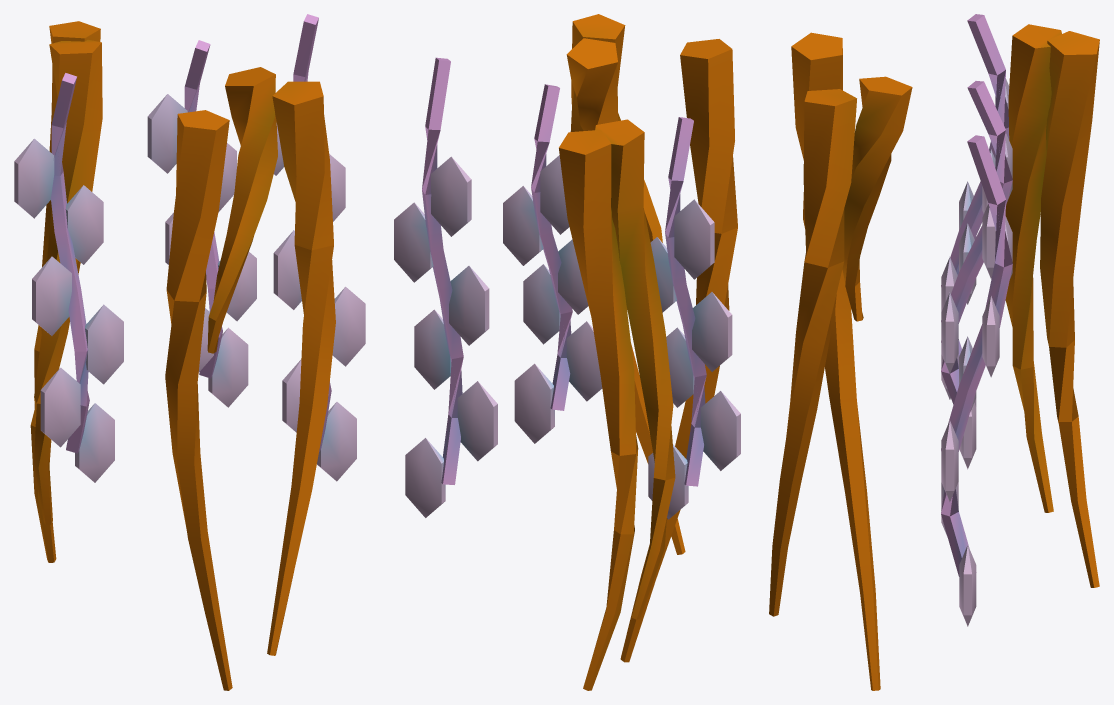
File: env_roots.glb
The picture shows the model from 3 angles, left to right: view 1: azimuth 30°, elevation 25°; view 2: azimuth 150°, elevation 25°; view 3: azimuth 270°, elevation 25°; orthographic projection. The views are drawn at different scales.
Visible parts, largest first — view 1: env_roots; view 2: env_roots; view 3: env_roots.
Boxes of the visible parts, bbox=[...] form: env_roots: bbox=[14, 14, 365, 690]; env_roots: bbox=[394, 14, 740, 690]; env_roots: bbox=[769, 14, 1099, 690].
Size of the model in its own units: 0.6696 by 1.21 by 0.5823.
